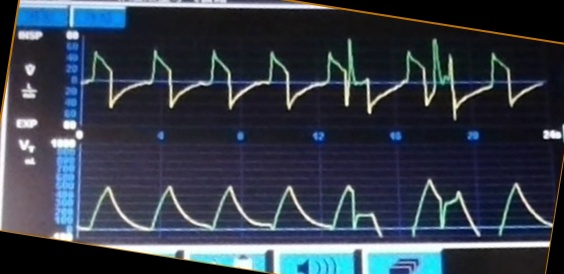Double_Triggering Flow: (136, 37, 534, 118)
Double_Triggering Volume: (132, 166, 546, 239)
